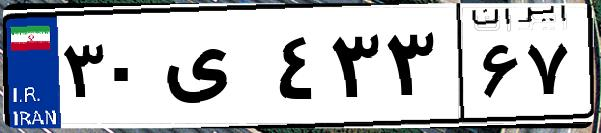0: (110, 28, 158, 98)
3: (385, 28, 445, 110), (330, 28, 385, 110), (57, 26, 110, 100)
4: (270, 28, 330, 110)
6: (475, 38, 525, 113)
7: (525, 38, 570, 115)
ی: (158, 20, 270, 120)
